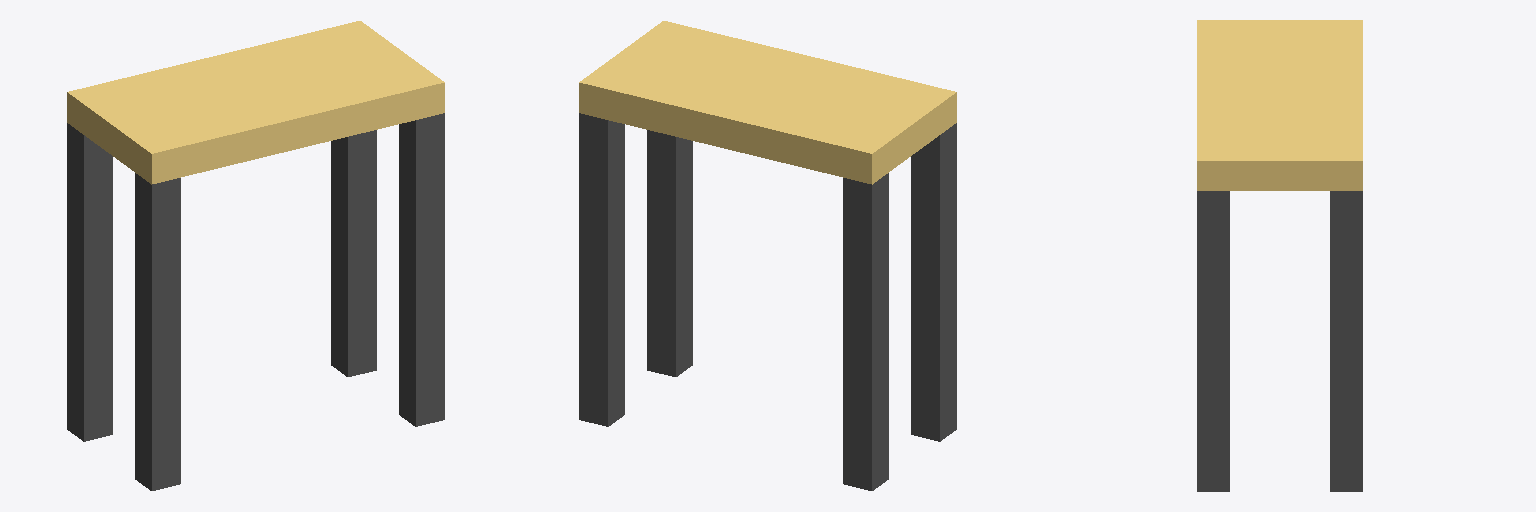
robot.urdf — table_robot:
<?xml version="1.0" ?>
<!-- =================================================================================== -->
<!-- |    This document was autogenerated by xacro from table_world.xacro              | -->
<!-- |    EDITING THIS FILE BY HAND IS NOT RECOMMENDED                                 | -->
<!-- =================================================================================== -->
<robot name="table_robot" xmlns:xacro="http://www.ros.org/wiki/xacro">
  <!--xacro:include filename="$(find lwr_description)/model/kuka_lwr.urdf.xacro"/-->
  <gazebo reference="table_link">
    <material>Gazebo/Wood</material>
  </gazebo>
  <gazebo reference="front_right_leg">
    <material>Gazebo/Grey</material>
  </gazebo>
  <gazebo reference="front_left_leg">
    <material>Gazebo/Grey</material>
  </gazebo>
  <gazebo reference="rear_left_leg">
    <material>Gazebo/Grey</material>
  </gazebo>
  <gazebo reference="rear_right_leg">
    <material>Gazebo/Grey</material>
  </gazebo>
  <material name="red">
    <color rgba="0.8 0.0 0.0 1.0"/>
  </material>
  <link name="world"/>
  <link name="table_dummy_link"/>
  <joint name="table_dummy_joint" type="fixed">
    <origin rpy="0 0 0" xyz="1 0 0"/>
    <origin rpy="0 0 0" xyz="0 0 0"/>
    <parent link="world"/>
    <child link="table_dummy_link"/>
  </joint>
  <link name="table_link">
    <visual>
      <origin rpy="0 0 0" xyz="0 0 0"/>
      <geometry>
        <box size="0.5 0.25 0.05"/>
      </geometry>
      <material name="Wood">
        <color rgba="1 0.88 0.56 1"/>
      </material>
    </visual>
    <inertial>
      <origin rpy="0 0 0" xyz="0 0 0"/>
      <mass value="1"/>
      <inertia ixx="0.0260416666667" ixy="0.0" ixz="0.0" iyy="0.00541666666667" iyz="0.0" izz="0.0210416666667"/>
    </inertial>
    <collision>
      <origin rpy="0 0 0" xyz="0 0 0"/>
      <geometry>
        <box size="0.5 0.25 0.05"/>
      </geometry>
    </collision>
  </link>
  <joint name="base_to_table" type="fixed">
    <origin rpy="0 0 0" xyz="0 0 0.525"/>
    <parent link="table_dummy_link"/>
    <child link="table_link"/>
  </joint>
  <link name="front_left_leg">
    <visual>
      <origin rpy="0 0 0" xyz="0 0 0"/>
      <geometry>
        <box size="0.05 0.05 0.5"/>
      </geometry>
      <material name="Grey">
        <color rgba="0.4 0.4 0.4 1"/>
      </material>
    </visual>
    <inertial>
      <origin rpy="0 0 0" xyz="0 0 0"/>
      <mass value="1"/>
      <inertia ixx="0.00526041666667" ixy="0.0" ixz="0.0" iyy="0.000104166666667" iyz="0.0" izz="0.00526041666667"/>
    </inertial>
    <collision>
      <origin rpy="0 0 0" xyz="0 0 0"/>
      <geometry>
        <box size="0.05 0.05 0.5"/>
      </geometry>
    </collision>
  </link>
  <joint name="link_front_left_leg" type="fixed">
    <origin rpy="0 0 0" xyz="0.225 0.1 -0.275"/>
    <parent link="table_link"/>
    <child link="front_left_leg"/>
  </joint>
  <link name="front_right_leg">
    <visual>
      <origin rpy="0 0 0" xyz="0 0 0"/>
      <geometry>
        <box size="0.05 0.05 0.5"/>
      </geometry>
      <material name="Grey">
        <color rgba="0.4 0.4 0.4 1"/>
      </material>
    </visual>
    <inertial>
      <origin rpy="0 0 0" xyz="0 0 0"/>
      <mass value="1"/>
      <inertia ixx="0.00526041666667" ixy="0.0" ixz="0.0" iyy="0.000104166666667" iyz="0.0" izz="0.00526041666667"/>
    </inertial>
    <collision>
      <origin rpy="0 0 0" xyz="0 0 0"/>
      <geometry>
        <box size="0.05 0.05 0.5"/>
      </geometry>
    </collision>
  </link>
  <joint name="link_front_right_leg" type="fixed">
    <origin rpy="0 0 0" xyz="0.225 -0.1 -0.275"/>
    <parent link="table_link"/>
    <child link="front_right_leg"/>
  </joint>
  <link name="rear_left_leg">
    <visual>
      <origin rpy="0 0 0" xyz="0 0 0"/>
      <geometry>
        <box size="0.05 0.05 0.5"/>
      </geometry>
      <material name="Grey">
        <color rgba="0.4 0.4 0.4 1"/>
      </material>
    </visual>
    <inertial>
      <origin rpy="0 0 0" xyz="0 0 0"/>
      <mass value="1"/>
      <inertia ixx="0.00526041666667" ixy="0.0" ixz="0.0" iyy="0.000104166666667" iyz="0.0" izz="0.00526041666667"/>
    </inertial>
    <collision>
      <origin rpy="0 0 0" xyz="0 0 0"/>
      <geometry>
        <box size="0.05 0.05 0.5"/>
      </geometry>
    </collision>
  </link>
  <joint name="link_rear_left_leg" type="fixed">
    <origin rpy="0 0 0" xyz="-0.225 0.1 -0.275"/>
    <parent link="table_link"/>
    <child link="rear_left_leg"/>
  </joint>
  <link name="rear_right_leg">
    <visual>
      <origin rpy="0 0 0" xyz="0 0 0"/>
      <geometry>
        <box size="0.05 0.05 0.5"/>
      </geometry>
      <material name="Grey">
        <color rgba="0.4 0.4 0.4 1"/>
      </material>
    </visual>
    <inertial>
      <origin rpy="0 0 0" xyz="0 0 0"/>
      <mass value="1"/>
      <inertia ixx="0.00526041666667" ixy="0.0" ixz="0.0" iyy="0.000104166666667" iyz="0.0" izz="0.00526041666667"/>
    </inertial>
    <collision>
      <origin rpy="0 0 0" xyz="0 0 0"/>
      <geometry>
        <box size="0.05 0.05 0.5"/>
      </geometry>
    </collision>
  </link>
  <joint name="link_rear_right_leg" type="fixed">
    <origin rpy="0 0 0" xyz="-0.225 -0.1 -0.275"/>
    <parent link="table_link"/>
    <child link="rear_right_leg"/>
  </joint>
  <!--xacro:kuka_lwr parent="world" name="lwr">
	<origin xyz="0 0 0" rpy="0 0 0"/>
</xacro:kuka_lwr-->
</robot>

--- What the picture shows (computed from the rendered views, not written in the file) ---
The picture shows the robot from 3 angles, left to right: view 1: azimuth 30°, elevation 25°; view 2: azimuth 150°, elevation 25°; view 3: azimuth 270°, elevation 25°; orthographic projection.
Model table_robot with 7 links and 6 joints (6 fixed), rooted at world, posed all joints at 0.
Links seen in each view (by area): view 1: table_link, rear_right_leg, front_right_leg, rear_left_leg, front_left_leg; view 2: table_link, rear_left_leg, front_left_leg, rear_right_leg, front_right_leg; view 3: table_link, front_left_leg, front_right_leg.
Boxes of the visible links, bbox=[...] form: table_link: bbox=[67, 21, 444, 184]; rear_right_leg: bbox=[135, 173, 180, 490]; front_right_leg: bbox=[399, 113, 444, 426]; rear_left_leg: bbox=[67, 123, 112, 441]; front_left_leg: bbox=[331, 130, 376, 376]; table_link: bbox=[579, 21, 956, 184]; rear_left_leg: bbox=[843, 173, 888, 490]; front_left_leg: bbox=[579, 113, 624, 426]; rear_right_leg: bbox=[911, 123, 956, 441]; front_right_leg: bbox=[647, 130, 692, 376]; table_link: bbox=[1197, 20, 1362, 190]; front_left_leg: bbox=[1330, 191, 1362, 491]; front_right_leg: bbox=[1197, 191, 1229, 491].
Size in the robot's own frame: 0.5 by 0.25 by 0.55 metres.
Geometry: primitives only (box / cylinder / sphere), no mesh files.